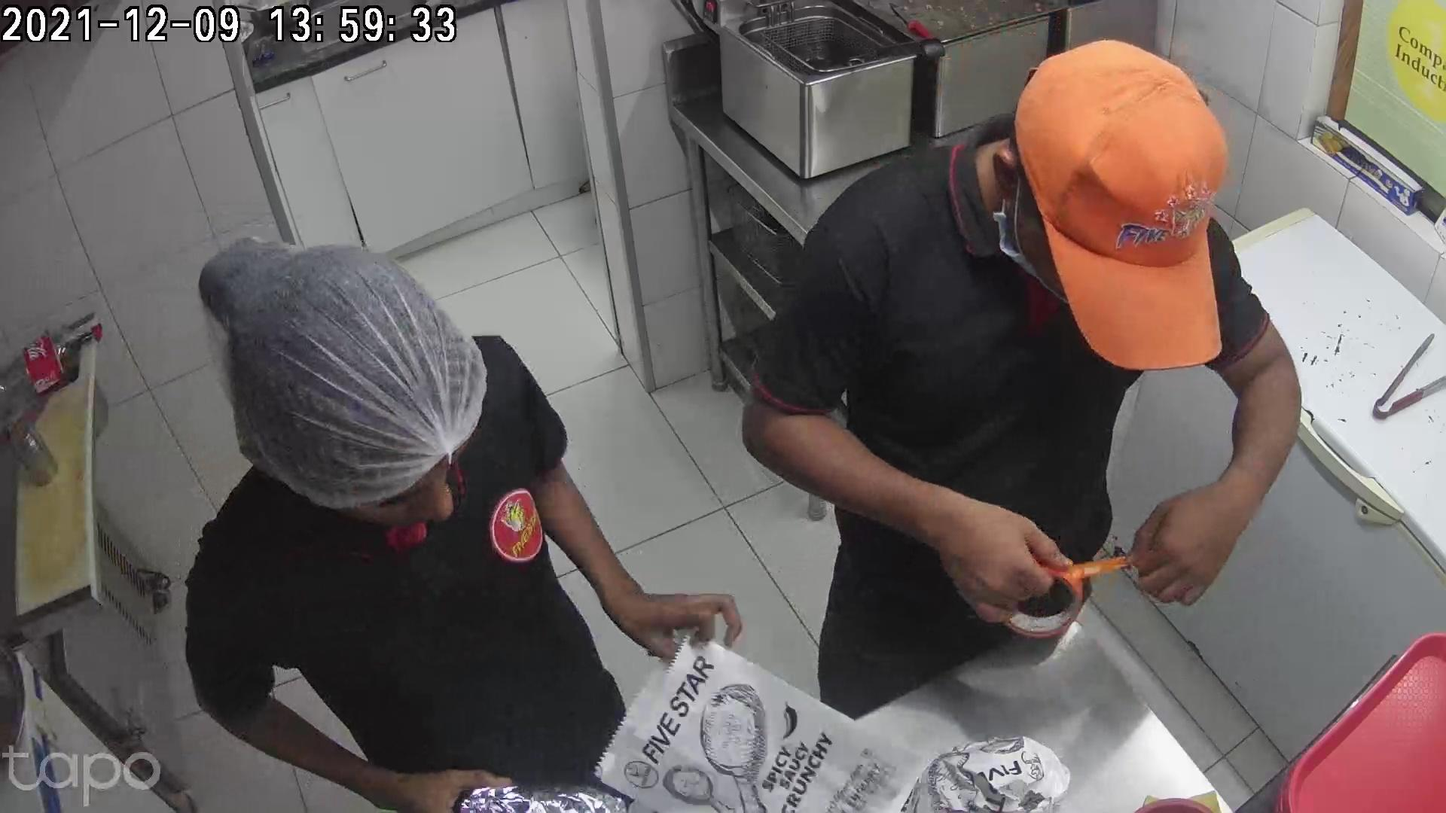no_gloves: (893, 508, 1047, 626), (604, 569, 743, 646)
